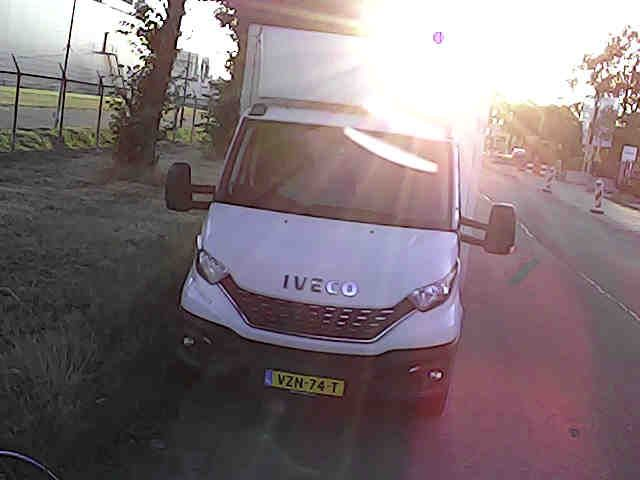whitevan: (167, 13, 517, 421)
